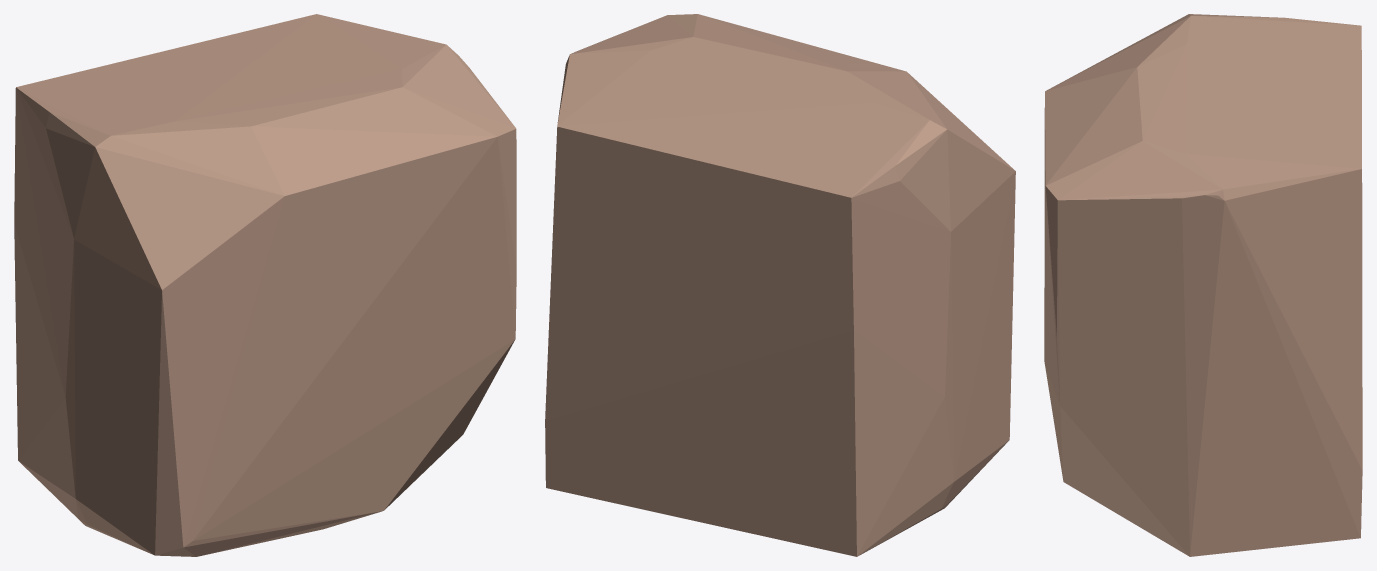
The model's file is pallet_assembly_red_a01.glb.
3 renders of one model, left to right at view 1: azimuth 30°, elevation 25°; view 2: azimuth 150°, elevation 25°; view 3: azimuth 270°, elevation 25°, orthographic. The views are drawn at different scales.
Visible parts, largest first — view 1: geometry_0; view 2: geometry_0; view 3: geometry_0.
Part boxes in pixels (x1,y1,x2,y2): geometry_0: (14,14,516,556); geometry_0: (545,14,1015,556); geometry_0: (1044,14,1362,556).
Size of the model in its own units: 0.4689 by 0.4703 by 0.3442.
